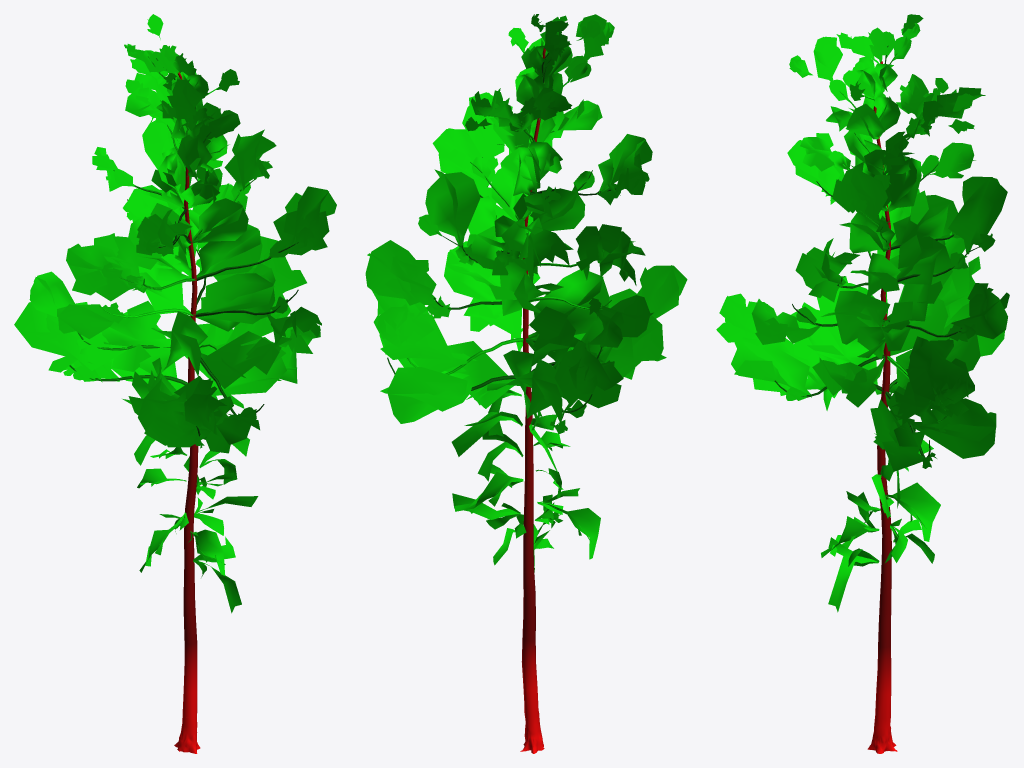
The model's file is Tree M3.FBX.
3 views of the same model, side by side, from view 1: azimuth 30°, elevation 25°; view 2: azimuth 150°, elevation 25°; view 3: azimuth 270°, elevation 25° (orthographic). The views are drawn at different scales.
Parts seen in each view (by area): view 1: M3_LOD1; view 2: M3_LOD1; view 3: M3_LOD1.
Part boxes in pixels (x1,y1,x2,y2): M3_LOD1: (14, 14, 336, 753); M3_LOD1: (365, 14, 687, 753); M3_LOD1: (716, 14, 1009, 753).
Bounding box in the file's own units: 375 × 965 × 354.
